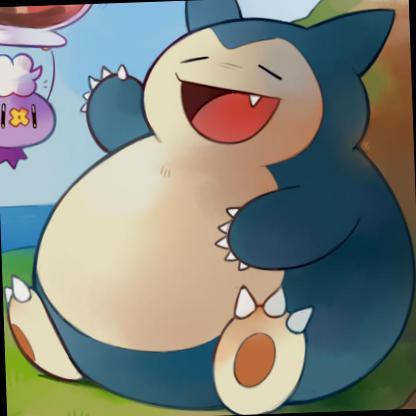Relaxo: (0, 0, 415, 411)
